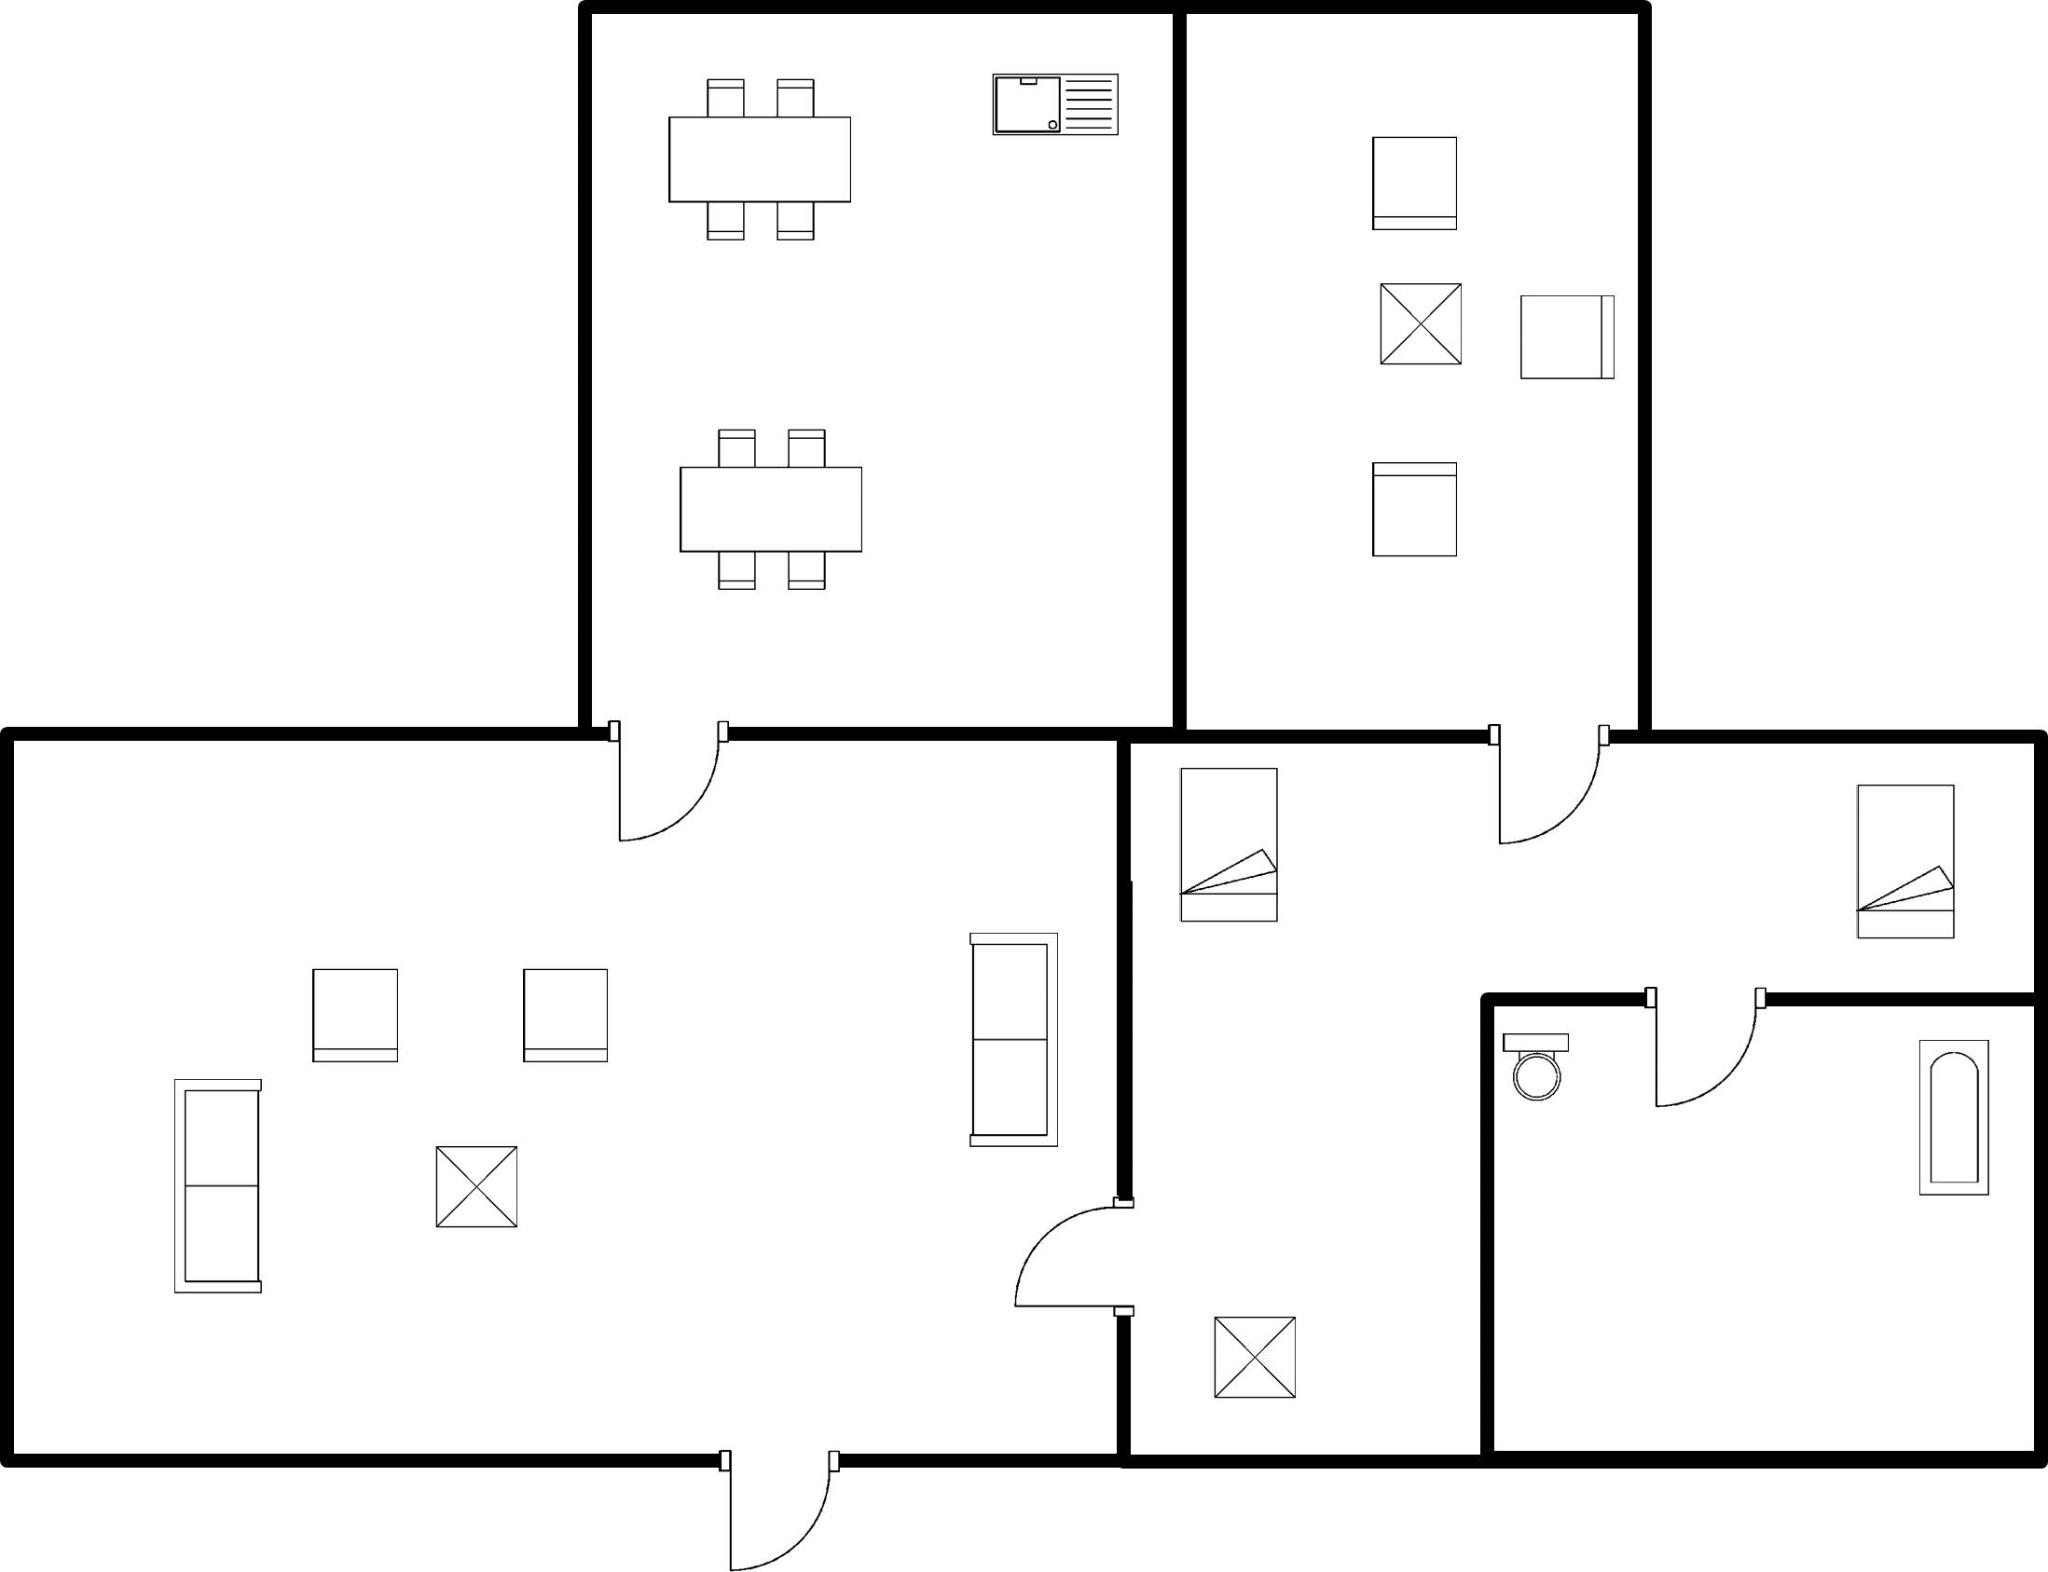bed: (1169, 756, 1292, 935), (1843, 773, 1964, 945)
dining_table: (652, 63, 869, 253), (666, 418, 872, 603)
sink: (981, 61, 1131, 149)
sofa: (958, 915, 1065, 1159), (164, 1067, 269, 1301)
tub: (1908, 1024, 1997, 1205)
